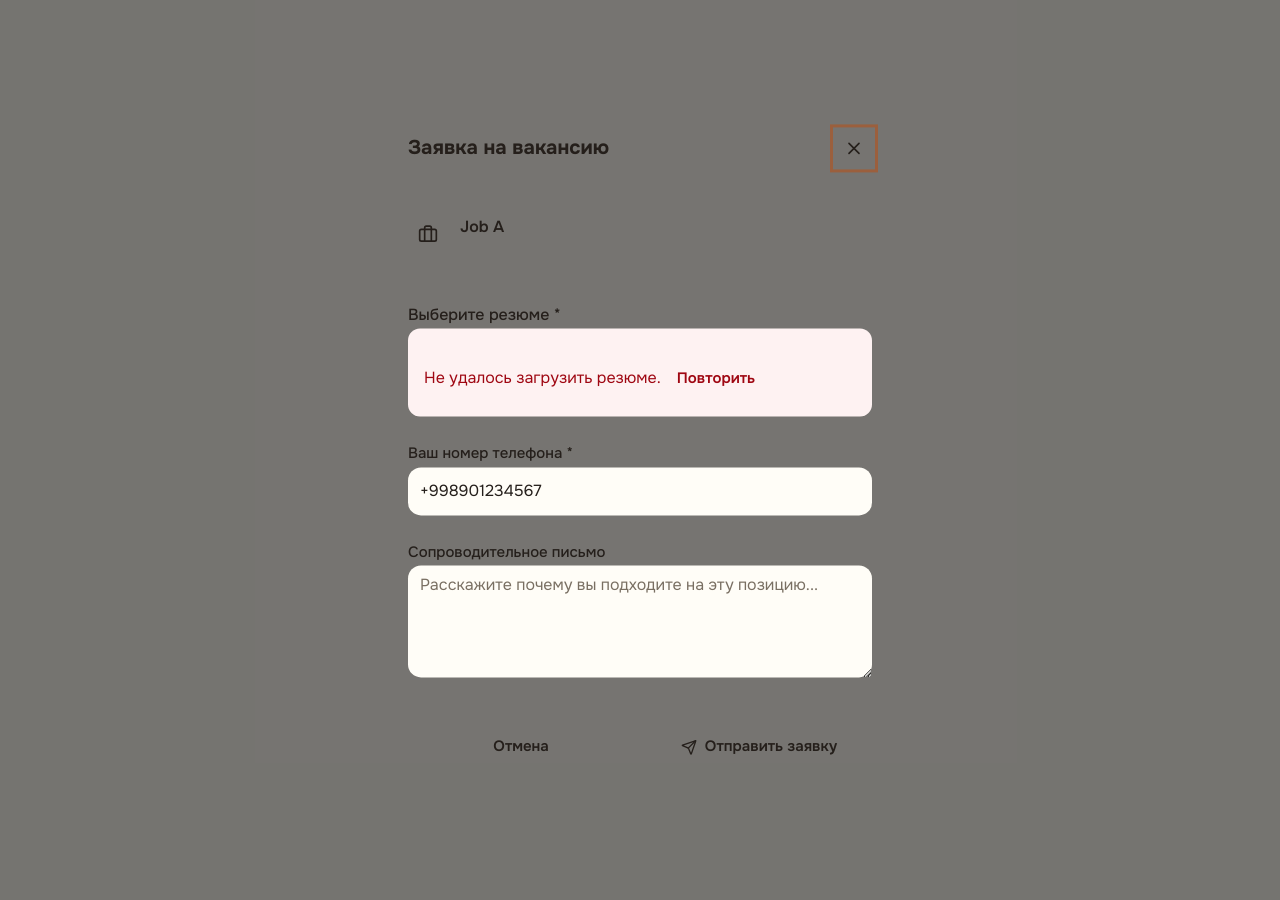
Test: a resume loading error is shown with retry instead of an empty account
Expected: the message shows "Не удалось загрузить резюме", [424, 367, 661, 388]
Step 1. Click the button "Повторить" → (716, 379), box [661, 357, 771, 401]
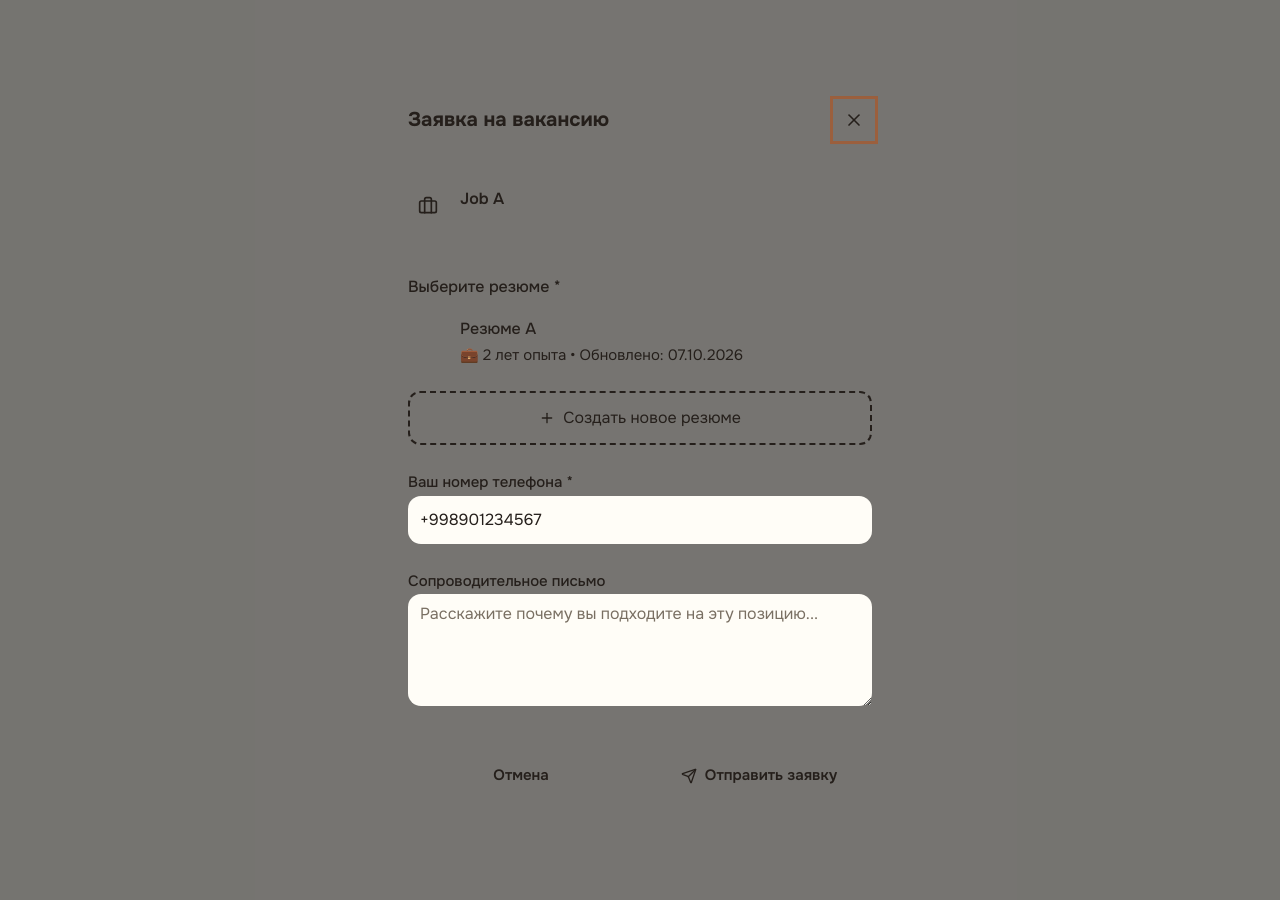
Result: the radio button labelled "Резюме A 💼 2 лет опыта • Обновлено: 07.10.2026" is shown at [460, 318, 743, 365]
